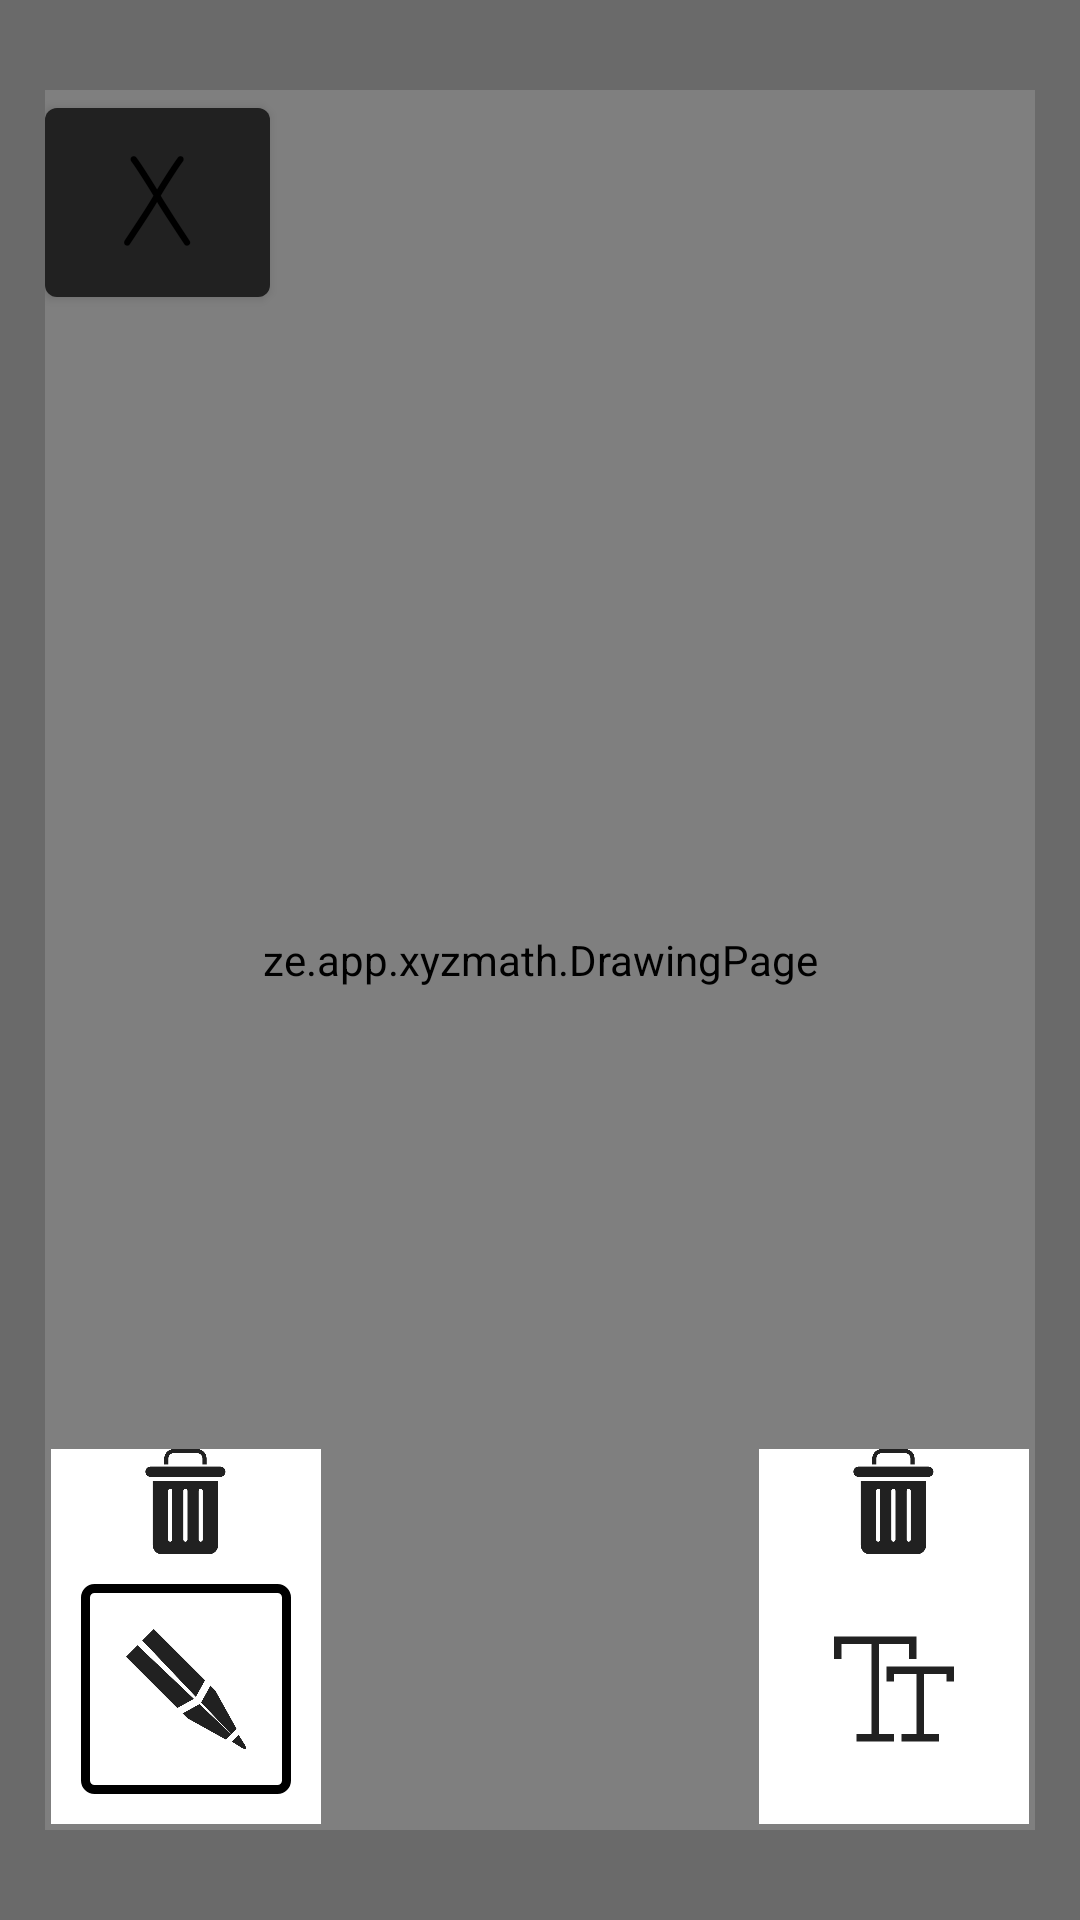

Point at icon controls on the screen. Image size 1080px x 1920px, points as [x,y].
bin: [185,1510], [893,1510]
lead: [186,1689]
texticon: [894,1689]
